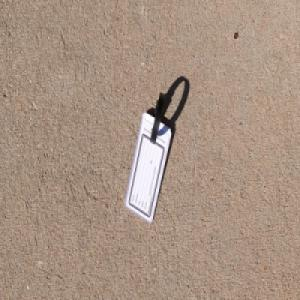LuggageTag: (123, 89, 173, 225)
